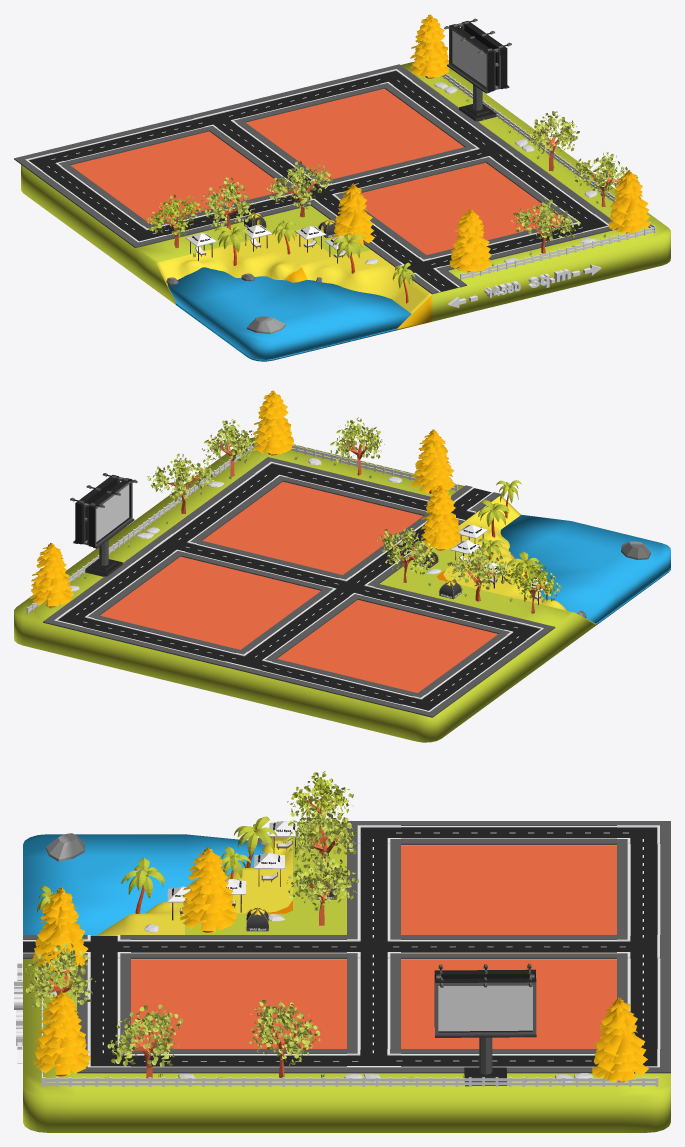
Rendered from VillaBeach.glb.
3 views of the same model, one above another, from view 1: azimuth 30°, elevation 25°; view 2: azimuth 150°, elevation 25°; view 3: azimuth 270°, elevation 25° (orthographic). The views are drawn at different scales.
Visible parts, largest first — view 1: 3.014, Billboar.006, 1.254, 1.237, 1.240, 1.252, 1.239, 1.245, 1.248, Cube.262, 1.238, 1.244 (+22 smaller); view 2: 3.014, Billboar.006, 1.254, 1.237, 1.239, 1.238, 1.240, 1.245, 1.248, 1.252, 1.244, Cube.262 (+20 smaller); view 3: 3.014, Billboar.006, Cube.262, 1.240, 1.248, 1.251, 1.239, 1.237, 1.245, 1.238, 1.252, 1.244 (+23 smaller).
Part boxes in pixels (left/top/right/bottom): 3.014: left=21, top=61, right=670, bottom=361; Billboar.006: left=444, top=18, right=511, bottom=121; 1.254: left=224, top=73, right=384, bottom=122; 1.237: left=49, top=115, right=209, bottom=165; 1.240: left=34, top=164, right=149, bottom=232; 1.252: left=384, top=79, right=500, bottom=146; 1.239: left=327, top=147, right=485, bottom=195; 1.245: left=486, top=153, right=601, bottom=219; 1.248: left=209, top=122, right=323, bottom=189; Cube.262: left=442, top=74, right=655, bottom=273; 1.238: left=152, top=190, right=310, bottom=239; 1.244: left=427, top=222, right=586, bottom=270; 3.014: left=14, top=437, right=670, bottom=742; Billboar.006: left=70, top=473, right=137, bottom=576; 1.254: left=78, top=615, right=239, bottom=665; 1.237: left=255, top=658, right=417, bottom=708; 1.239: left=180, top=540, right=342, bottom=590; 1.238: left=357, top=583, right=519, bottom=633; 1.240: left=418, top=633, right=534, bottom=702; 1.245: left=166, top=472, right=282, bottom=540; 1.248: left=241, top=590, right=357, bottom=658; 1.252: left=64, top=547, right=180, bottom=615; 1.244: left=283, top=465, right=430, bottom=515; Cube.262: left=26, top=443, right=419, bottom=614; 3.014: left=23, top=822, right=670, bottom=1132; Billboar.006: left=434, top=963, right=536, bottom=1086; Cube.262: left=41, top=968, right=658, bottom=1086; 1.240: left=401, top=821, right=616, bottom=844; 1.248: left=401, top=935, right=616, bottom=958; 1.251: left=131, top=935, right=346, bottom=958; 1.239: left=347, top=957, right=400, bottom=1049; 1.237: left=617, top=843, right=670, bottom=935; 1.245: left=131, top=1049, right=346, bottom=1073; 1.238: left=347, top=843, right=400, bottom=935; 1.252: left=401, top=1049, right=598, bottom=1073; 1.244: left=77, top=957, right=130, bottom=1049.
Size of the model in its own units: 12.04 by 2.91 by 12.17.
1 material, 1 textured.
